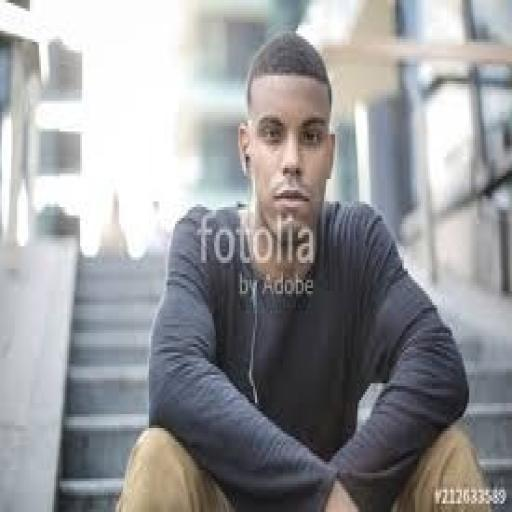listening_to_music: (112, 28, 495, 509)
